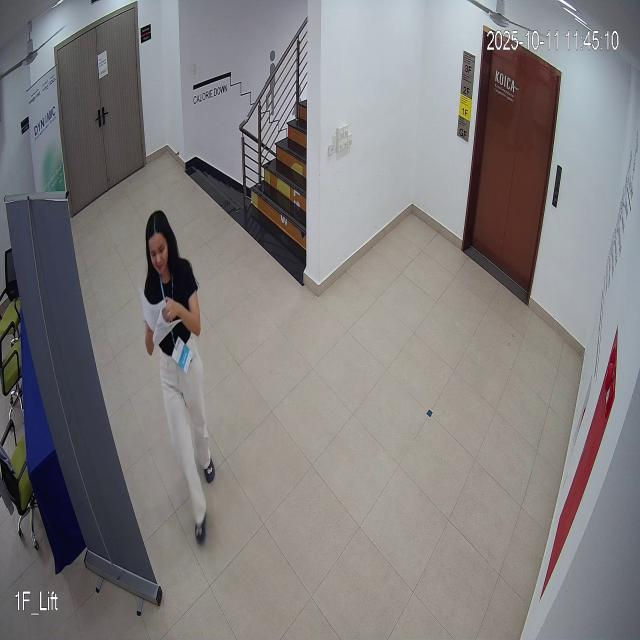face: (142, 208, 178, 281)
